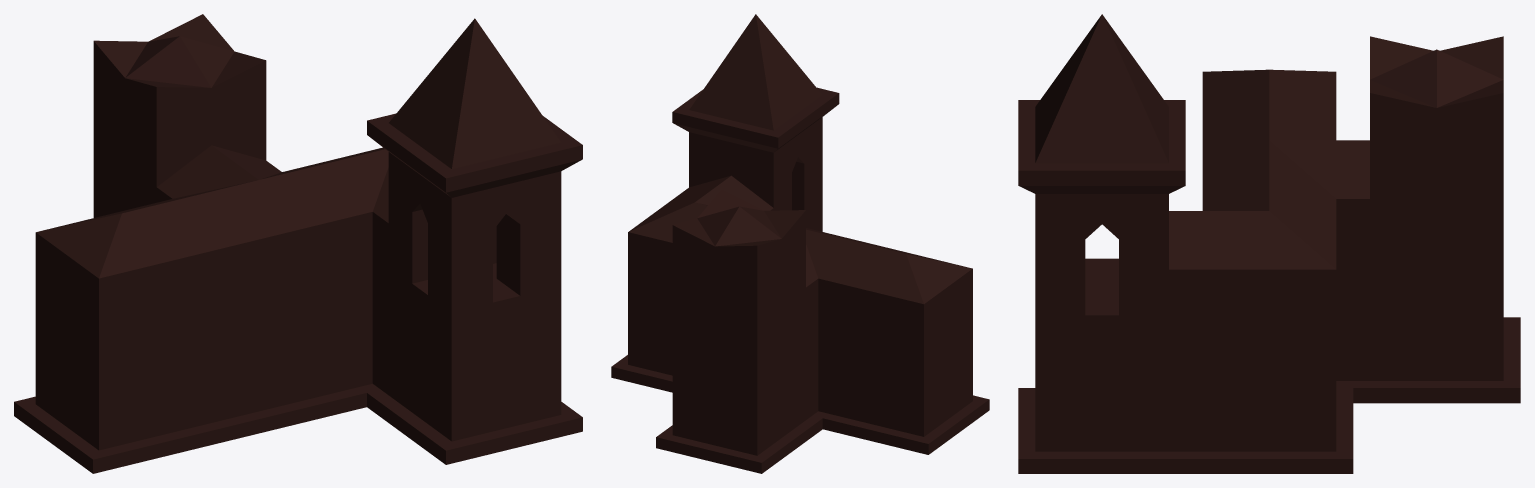
Rendered from Academy.glb.
3 views of the same model, side by side, from view 1: azimuth 30°, elevation 25°; view 2: azimuth 150°, elevation 25°; view 3: azimuth 270°, elevation 25° (orthographic). The views are drawn at different scales.
Parts seen in each view (by area): view 1: 5Academy; view 2: 5Academy; view 3: 5Academy.
Boxes of the visible parts, x1,y1,x2,y2 form: 5Academy: (14, 14, 582, 473); 5Academy: (611, 14, 989, 473); 5Academy: (1018, 14, 1520, 473).
Bounding box in the file's own units: 3 × 2.8 × 3.
